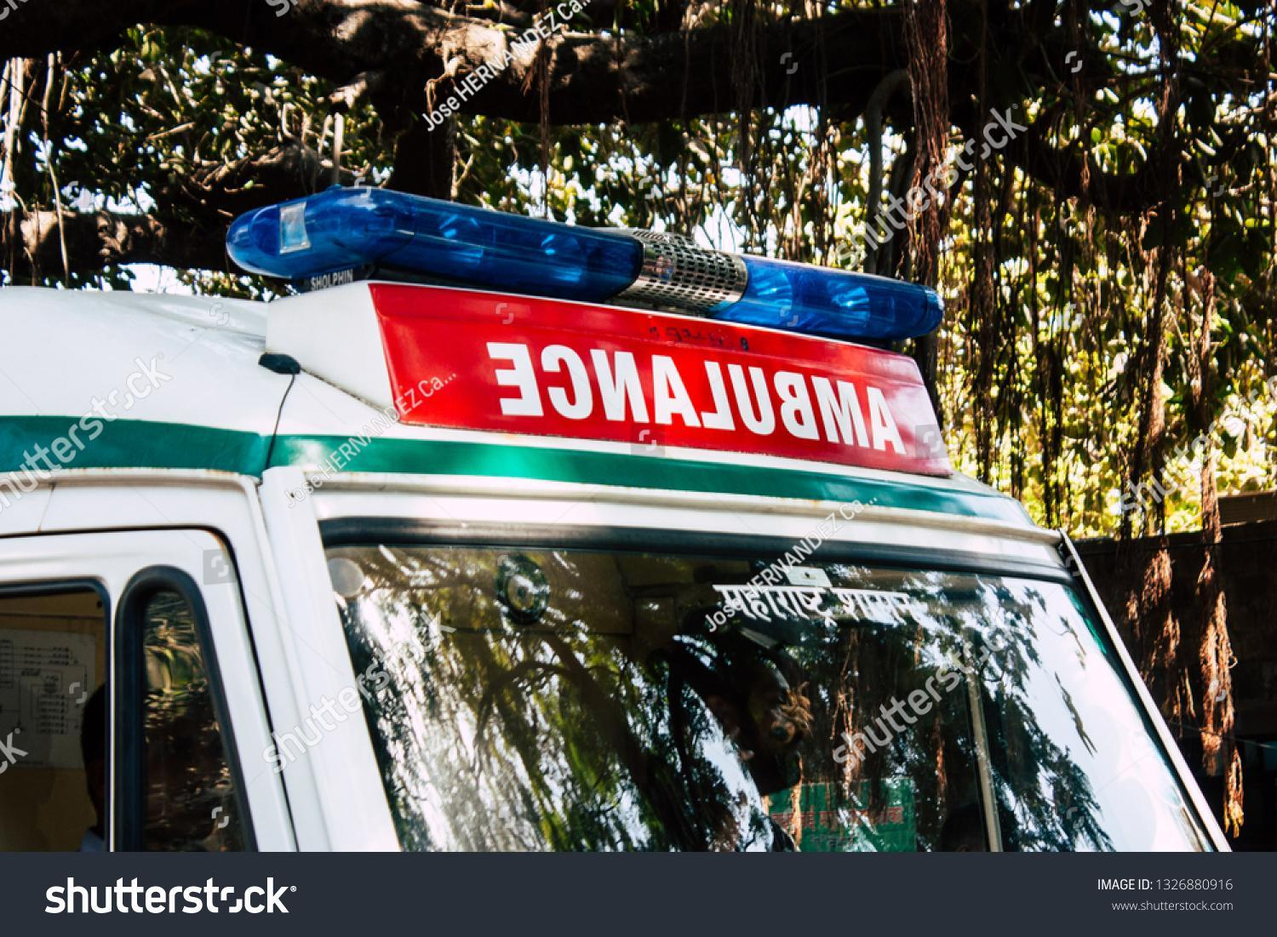Ambulance: (479, 341, 915, 457)
